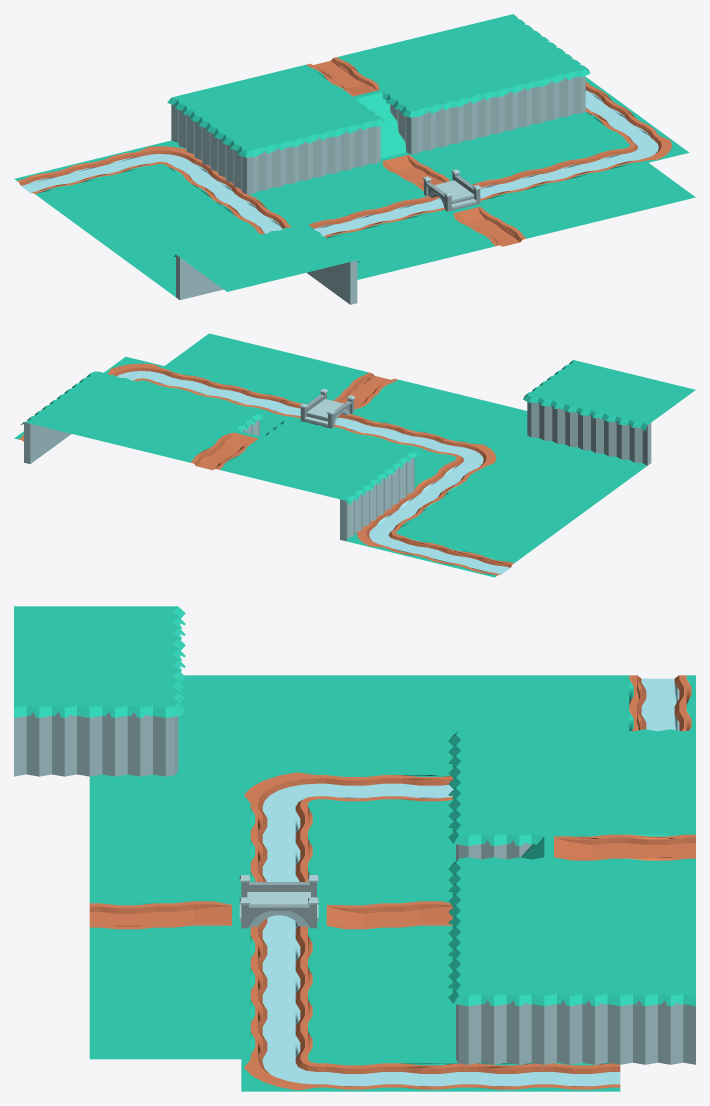
Rendered from cliff_scene.obj.
The picture shows the model from 3 angles, top to bottom: view 1: azimuth 30°, elevation 25°; view 2: azimuth 150°, elevation 25°; view 3: azimuth 270°, elevation 25°; orthographic projection. The views are drawn at different scales.
Visible parts, largest first — view 1: cliff_blockSlopeWalls_stone, cliff_top_stone.003, cliff_top_stone.002, cliff_top_stone.001, cliff_top_stone.007, cliff_top_stone.008, cliff_top_stone, cliff_top_stone.006, bridge_stoneRoundNarrow, cliff_top_stone.015, cliff_top_stone.011, cliff_top_stone.004 (+97 smaller); view 2: cliff_top_stone.015, cliff_top_stone.013, cliff_top_stone.014, cliff_top_stone.016, bridge_stoneRoundNarrow, cliff_top_stone.017, cliff_top_stone.005, cliff_top_stone.004, ground_pathEnd.003, ground_riverBendBank, ground_riverBendBank.001, ground_grass.038_ground_grass.042 (+80 smaller); view 3: cliff_top_stone.010, cliff_top_stone.009, cliff_top_stone.012, cliff_top_stone.017, cliff_top_stone.011, bridge_stoneRoundNarrow, ground_riverBendBank.001, ground_grass.067_ground_grass.071, ground_grass.009, ground_grass.011, ground_grass.013, ground_grass.015 (+94 smaller).
Boxes of the visible parts, x1,y1,x2,y2 form: cliff_blockSlopeWalls_stone: (349,90,412,158); cliff_top_stone.003: (331,118,378,173); cliff_top_stone.002: (290,128,337,183); cliff_top_stone.001: (250,138,296,193); cliff_top_stone.007: (495,78,542,133); cliff_top_stone.008: (537,68,583,123); cliff_top_stone: (413,98,460,153); cliff_top_stone.006: (454,88,501,143); bridge_stoneRoundNarrow: (422,169,481,211); cliff_top_stone.015: (174,244,220,299); cliff_top_stone.011: (326,243,360,304); cliff_top_stone.004: (214,130,248,191); cliff_top_stone.015: (606,413,651,465); cliff_top_stone.013: (568,404,612,455); cliff_top_stone.014: (529,394,573,446); cliff_top_stone.016: (340,483,372,541); bridge_stoneRoundNarrow: (299,388,355,428); cliff_top_stone.017: (21,406,52,463); cliff_top_stone.005: (363,466,394,523); cliff_top_stone.004: (385,450,417,507); ground_pathEnd.003: (208,429,268,454); ground_riverBendBank: (104,357,163,382); ground_riverBendBank.001: (452,441,512,467); ground_grass.038_ground_grass.042: (446,484,506,509); cliff_top_stone.010: (544,990,620,1064); cliff_top_stone.009: (468,990,544,1064); cliff_top_stone.012: (89,702,165,776); cliff_top_stone.017: (620,990,695,1064); cliff_top_stone.011: (14,702,89,776); bridge_stoneRoundNarrow: (239,875,318,928); ground_riverBendBank.001: (241,771,316,806); ground_grass.067_ground_grass.071: (89,606,165,638); ground_grass.009: (89,931,165,963); ground_grass.011: (89,963,165,995); ground_grass.013: (89,995,165,1027); ground_grass.015: (89,1027,165,1059).
Size of the model in its own units: 13 by 1.05 by 9.
